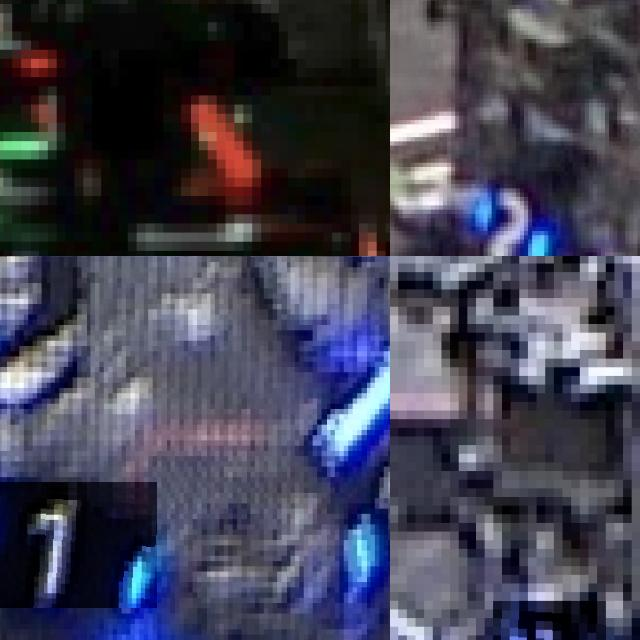B1: (0, 482, 157, 608), (344, 435, 390, 576)
B2: (471, 184, 552, 256), (493, 600, 605, 640)
